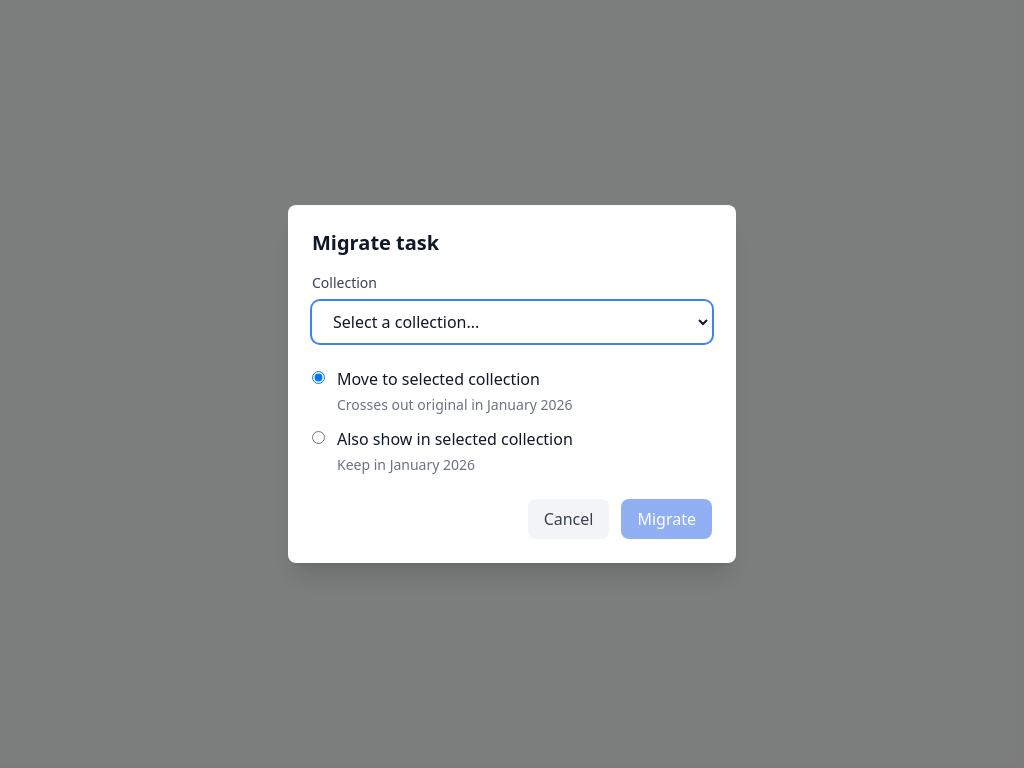
Test: MigrateEntryDialog - Smart Defaults › Mode Switching › should update collection name in helper text when collection changes
Expected: the text "Move to selected collection" is shown, x1=337 y1=368 x2=540 y2=390
Select Daily Log (formatted as date)
Select "Saturday, January 24, 2026" in the dropdown labelled "Collection" at x=512, y=322, box x1=312 y1=301 x2=712 y2=343
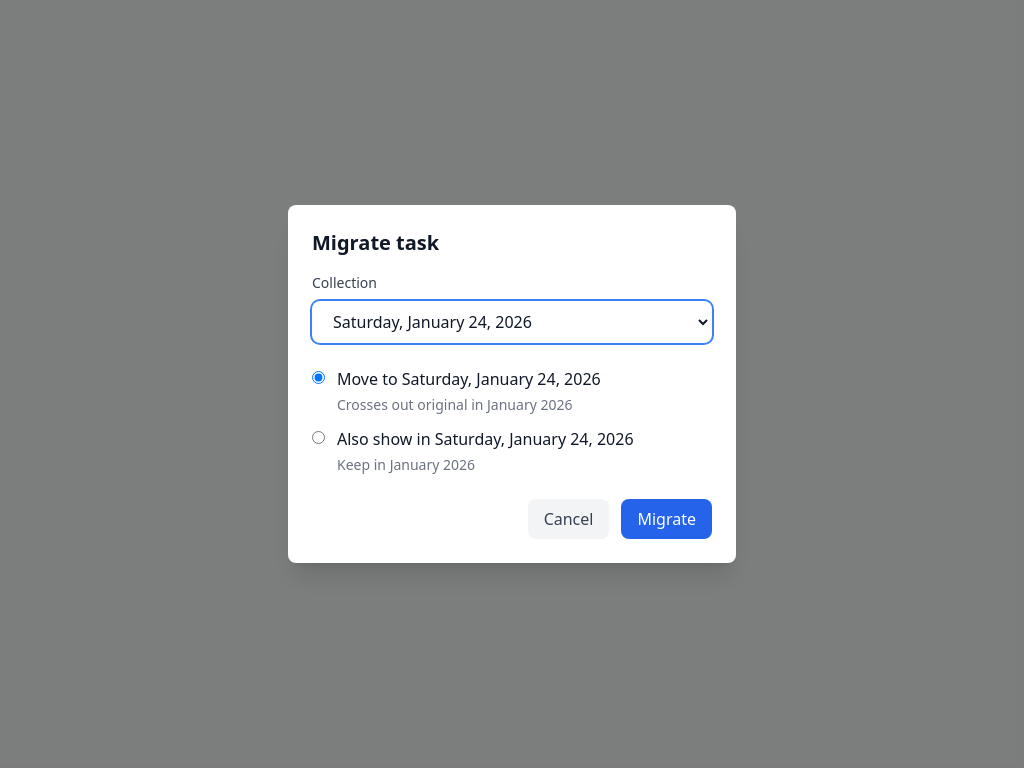
Expected: the text "Move to Saturday, January 24, 2026" is shown, x1=337 y1=368 x2=601 y2=390
Change collection to Work Projects
Select "Work Projects" in the dropdown labelled "Collection" at x=512, y=322, box x1=312 y1=301 x2=712 y2=343
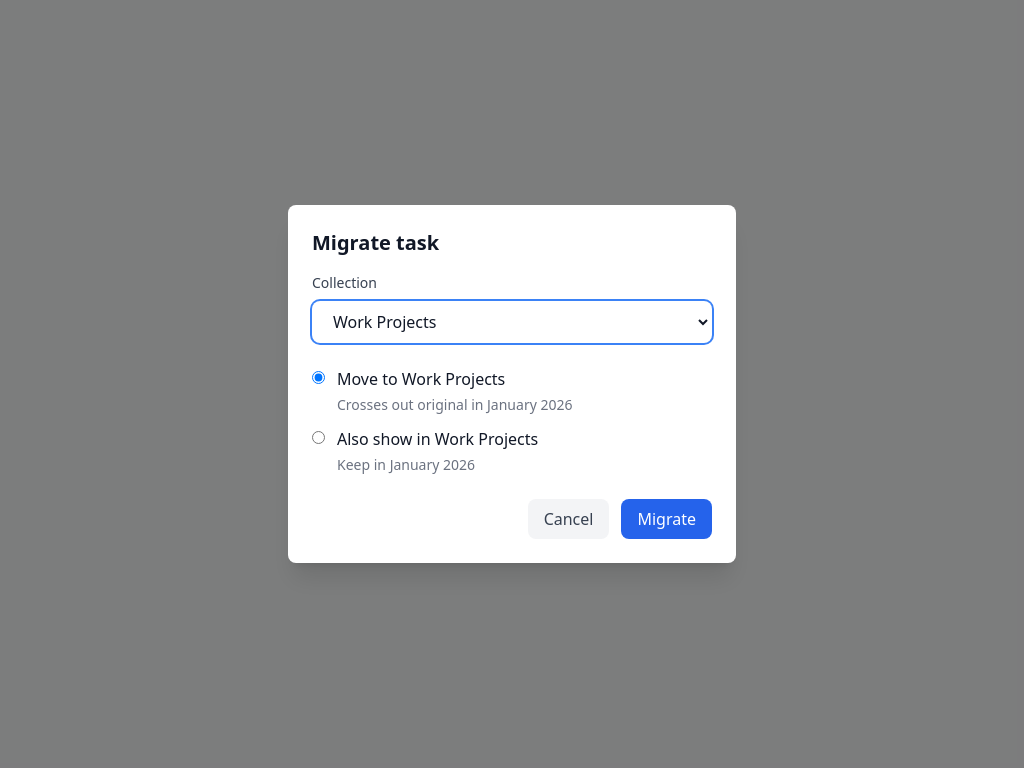
Expected: the text "Move to Work Projects" is shown, x1=337 y1=368 x2=505 y2=390
